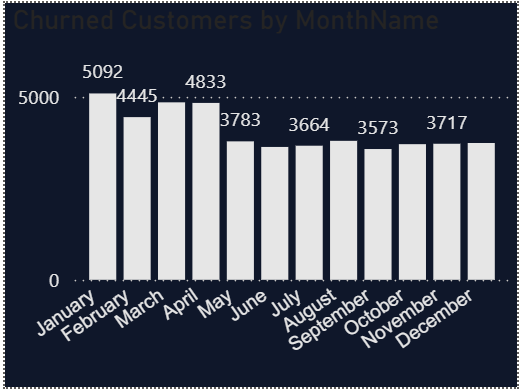

The dashboard page shown, as its layout file describes it:
{"tool":"powerbi","page":{"name":"TT_Monthly","canvas":[320,240],"ordinal":3},"visuals":[{"type":"columnChart","fields":{"Category":["dim_date.MonthName"],"Y":["Measure.Churned Customers"]},"box":[0,0,320,240],"z":0}]}

Visuals, with their boxes in screenshot pixels (x1, y1, x2, y2), scaled from the page's 320x240 canvas onto the 519x389 screenshot:
columnChart - dim_date.MonthName x Measure.Churned Customers: <region>0, 0, 518, 388</region>
